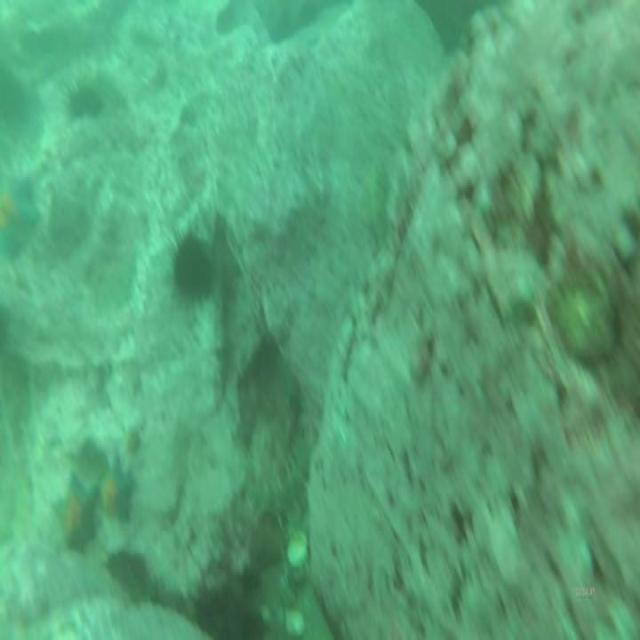echinus: (176, 238, 212, 296), (66, 84, 100, 117)
starfish: (50, 482, 96, 545), (0, 180, 36, 259), (100, 463, 134, 521)
